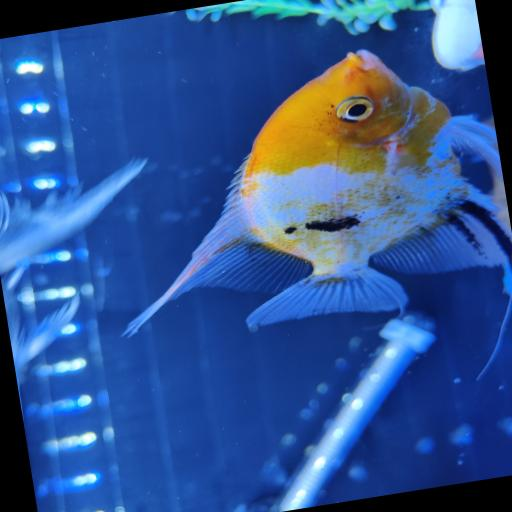Fish: (125, 50, 507, 334), (0, 158, 146, 369)
